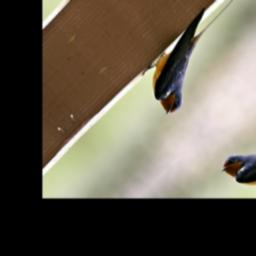Swallow: (131, 0, 256, 120)
